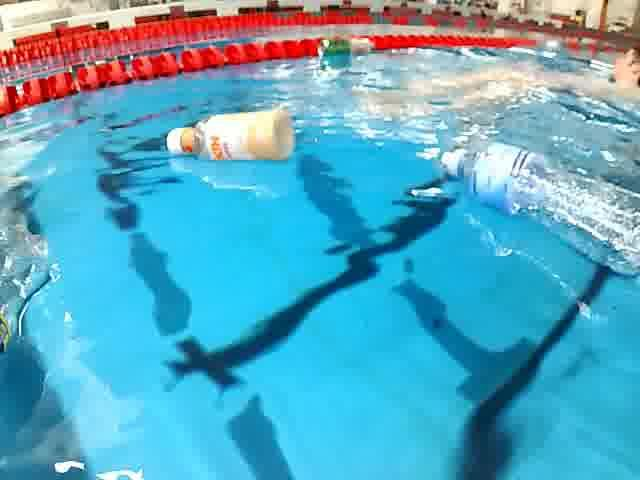Bottle: (428, 139, 640, 267), (164, 103, 304, 174)
Can: (307, 36, 357, 58)
